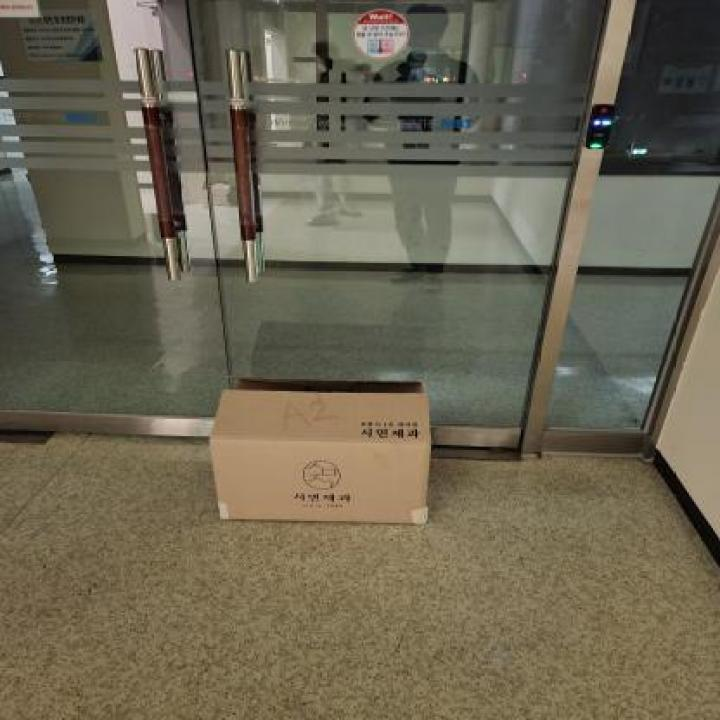box: (200, 368, 446, 534)
